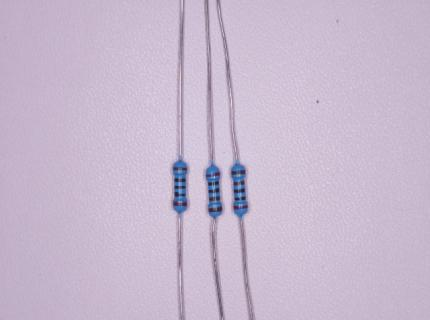Black band: (208, 181, 219, 186), (209, 188, 220, 193), (174, 192, 185, 196), (234, 189, 245, 193), (234, 197, 246, 200), (175, 186, 186, 189), (175, 179, 185, 182)
Brown band: (209, 206, 222, 212), (232, 170, 246, 175), (173, 167, 187, 171), (209, 196, 220, 201), (234, 180, 244, 185)
Red band: (233, 205, 248, 210), (206, 172, 220, 177), (173, 202, 187, 206)
